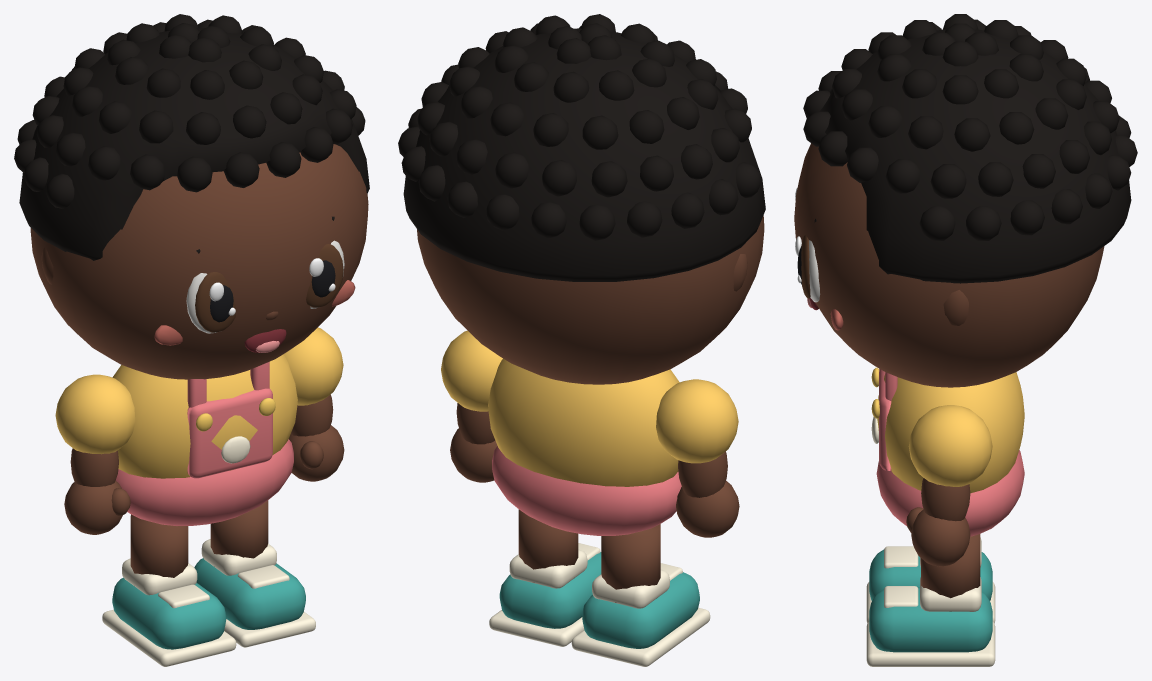
File: chibi-younger-boy.glb
The picture shows the model from 3 angles, left to right: view 1: azimuth 30°, elevation 25°; view 2: azimuth 150°, elevation 25°; view 3: azimuth 270°, elevation 25°; orthographic projection. The views are drawn at different scales.
Parts seen in each view (by area): view 1: head.001-textured black hair, head.001-deep brown skin, torso.001-coral overalls, torso.001-amber tee, arm-left.001-amber tee, leg-left.001-teal sneakers, leg-right.001-teal sneakers, leg-left.001-cream accents, arm-left.001-deep brown skin, leg-right.001-cream accents, arm-right.001-deep brown skin, arm-right.001-amber tee (+8 smaller); view 2: head.001-textured black hair, head.001-deep brown skin, torso.001-amber tee, torso.001-coral overalls, arm-left.001-amber tee, leg-left.001-teal sneakers, leg-left.001-cream accents, arm-left.001-deep brown skin, leg-right.001-teal sneakers, arm-right.001-amber tee, leg-right.001-cream accents, leg-left.001-deep brown skin (+2 smaller); view 3: head.001-textured black hair, head.001-deep brown skin, torso.001-amber tee, leg-right.001-teal sneakers, arm-right.001-amber tee, torso.001-coral overalls, leg-right.001-cream accents, arm-right.001-deep brown skin, leg-right.001-deep brown skin, leg-left.001-teal sneakers, leg-left.001-cream accents, head.001-eye white.
Boxes of the visible parts, <box> form: head.001-textured black hair: <box>14,14,369,260</box>; head.001-deep brown skin: <box>30,144,368,379</box>; torso.001-coral overalls: <box>115,361,293,525</box>; torso.001-amber tee: <box>112,354,297,478</box>; arm-left.001-amber tee: <box>55,374,135,454</box>; leg-left.001-teal sneakers: <box>112,577,226,649</box>; leg-right.001-teal sneakers: <box>194,558,305,629</box>; leg-left.001-cream accents: <box>102,558,236,666</box>; arm-left.001-deep brown skin: <box>64,448,130,534</box>; leg-right.001-cream accents: <box>201,539,315,647</box>; arm-right.001-deep brown skin: <box>289,394,344,481</box>; arm-right.001-amber tee: <box>283,327,343,405</box>; head.001-textured black hair: <box>398,14,765,281</box>; head.001-deep brown skin: <box>417,215,764,384</box>; torso.001-amber tee: <box>488,358,679,486</box>; torso.001-coral overalls: <box>492,446,681,535</box>; arm-left.001-amber tee: <box>656,379,738,463</box>; leg-left.001-teal sneakers: <box>582,572,699,648</box>; leg-left.001-cream accents: <box>571,563,710,666</box>; arm-left.001-deep brown skin: <box>676,451,739,537</box>; leg-right.001-teal sneakers: <box>499,552,601,628</box>; arm-right.001-amber tee: <box>441,330,502,411</box>; leg-right.001-cream accents: <box>489,543,600,646</box>; leg-left.001-deep brown skin: <box>601,524,660,602</box>; head.001-textured black hair: <box>803,14,1137,283</box>; head.001-deep brown skin: <box>794,143,1104,387</box>; torso.001-amber tee: <box>877,372,1024,493</box>; leg-right.001-teal sneakers: <box>869,587,992,652</box>; arm-right.001-amber tee: <box>908,405,992,486</box>; torso.001-coral overalls: <box>876,369,1024,536</box>; leg-right.001-cream accents: <box>866,577,995,666</box>; arm-right.001-deep brown skin: <box>906,478,970,566</box>; leg-right.001-deep brown skin: <box>921,534,980,611</box>; leg-left.001-teal sneakers: <box>869,549,992,600</box>; leg-left.001-cream accents: <box>866,537,995,623</box>; head.001-eye white: <box>809,240,820,302</box>.
Bounding box in the file's own units: 1.5 × 2.67 × 1.39.
